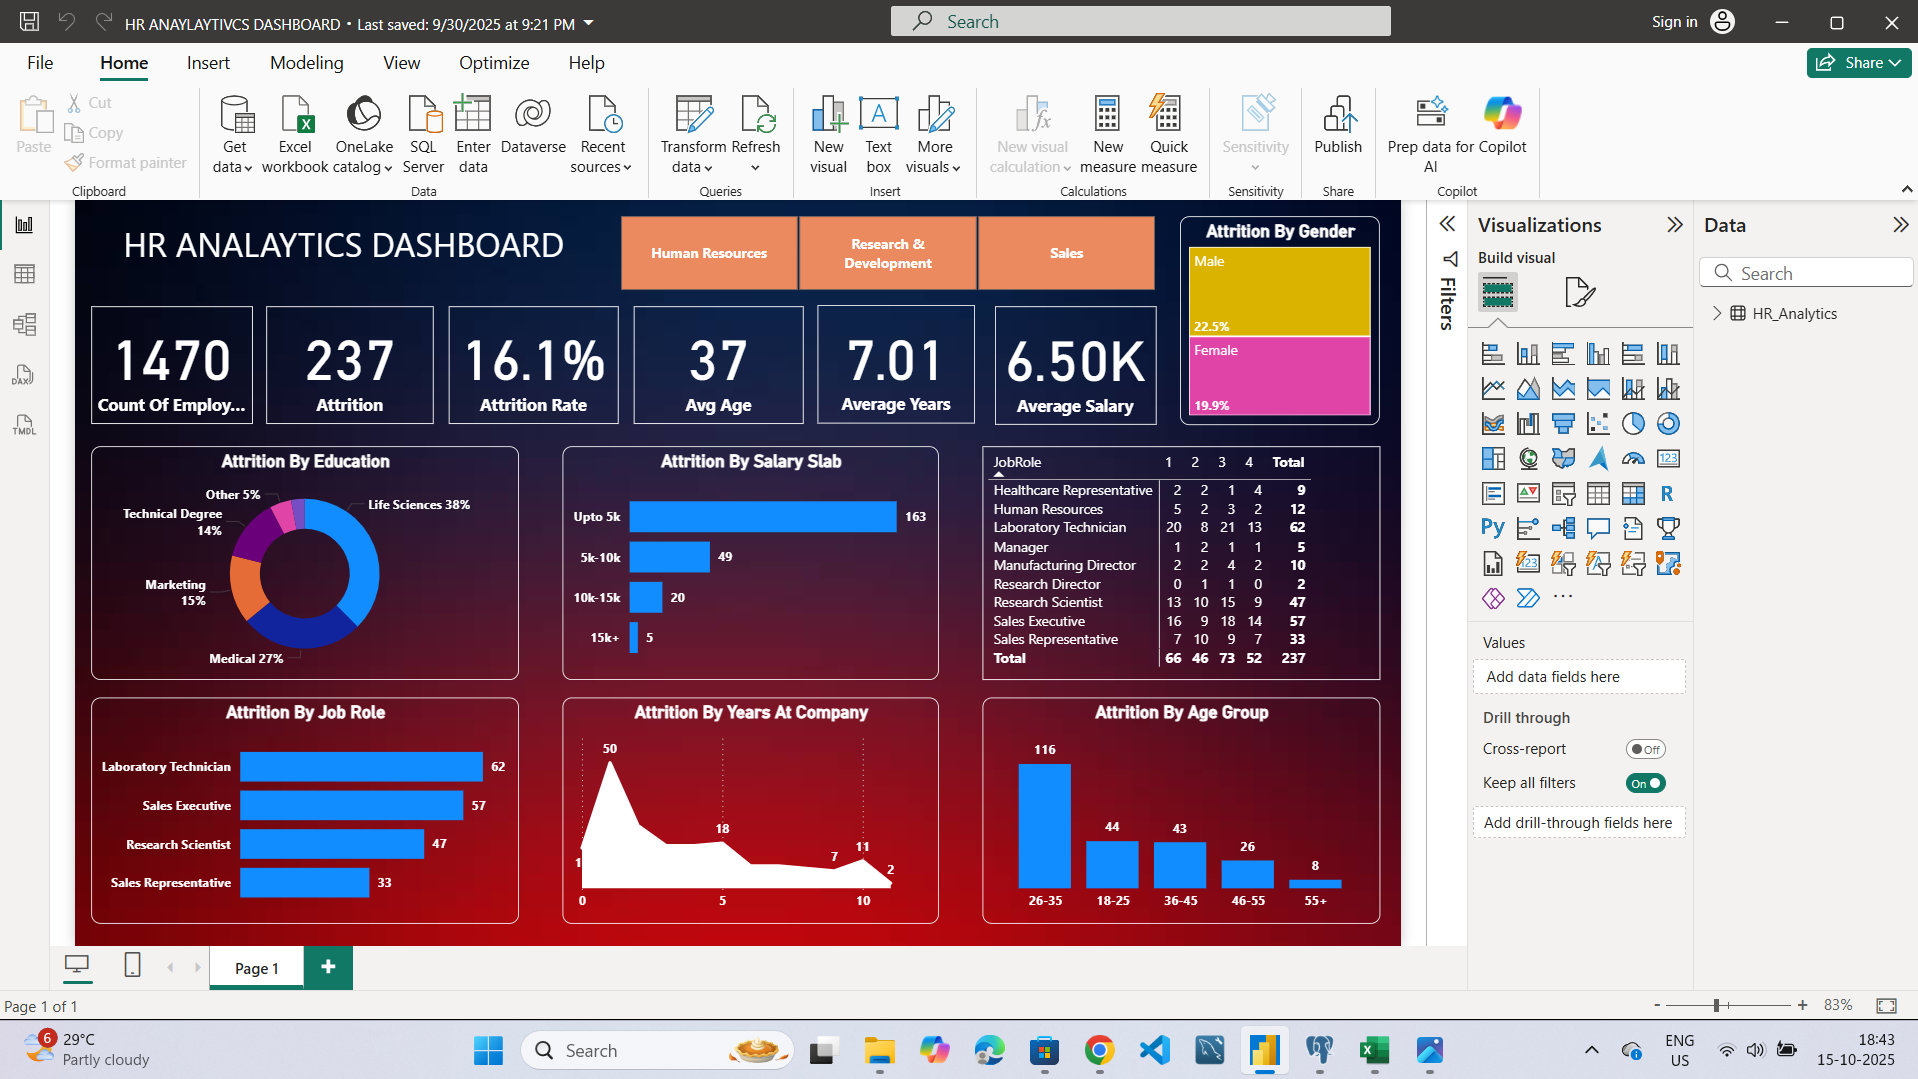

This screenshot's page, from the dashboard's own definition file:
{"tool":"powerbi","page":{"name":"Page 1","canvas":[1280,720],"ordinal":0},"visuals":[{"type":"card","fields":{"Values":["CountNonNull(HR_Analytics.EmpID)"]},"box":[15.7,102.5,155.6,113.4],"z":0},{"type":"card","fields":{"Values":["Sum(HR_Analytics.AttritionCount)"]},"box":[184.6,102.5,161.7,113.4],"z":1000},{"type":"card","fields":{"Values":["HR_Analytics.attritiaonBypercentage"]},"box":[360.7,102.5,164.1,113.4],"z":2000},{"type":"card","fields":{"Values":["HR_Analytics.avg_rate"]},"box":[539.3,102.5,164.1,113.4],"z":3000},{"type":"card","fields":{"Values":["Avg(HR_Analytics.MonthlyIncome)"]},"box":[887.9,102.5,155.6,114.6],"z":4000},{"type":"card","fields":{"Values":["Avg(HR_Analytics.YearsAtCompany)"]},"box":[716.6,101.3,152,114.6],"z":5000},{"type":"donutChart","title":"Attrition By Education ","fields":{"Category":["HR_Analytics.EducationField"],"Y":["Sum(HR_Analytics.AttritionCount)"]},"box":[15.7,237.7,412.6,225.6],"z":6000},{"type":"clusteredColumnChart","title":"Attrition By Age Group","fields":{"Category":["HR_Analytics.AgeGroup"],"Y":["Sum(HR_Analytics.AttritionCount)"]},"box":[875.9,480.2,383.6,218.4],"z":7000},{"type":"pivotTable","fields":{"Rows":["HR_Analytics.JobRole"],"Columns":["HR_Analytics.JobSatisfaction"],"Values":["Sum(HR_Analytics.AttritionCount)"]},"box":[875.9,237.7,383.6,225.6],"z":8000},{"type":"barChart","title":"Attrition By Salary Slab","fields":{"Y":["Sum(HR_Analytics.AttritionCount)"],"Category":["HR_Analytics.SalarySlab"]},"box":[470.5,237.7,363.1,225.6],"z":9000},{"type":"barChart","title":"Attrition By Job Role","fields":{"Y":["Sum(HR_Analytics.AttritionCount)"],"Category":["HR_Analytics.JobRole"]},"box":[15.7,480.2,412.6,218.4],"z":9001},{"type":"areaChart","title":"Attrition By Years At Company","fields":{"Category":["HR_Analytics.YearsAtCompany"],"Y":["Sum(HR_Analytics.AttritionCount)"]},"box":[470.5,480.2,363.1,218.4],"z":9003},{"type":"treemap","title":"Attrition By Gender","fields":{"Group":["HR_Analytics.Gender"],"Values":["HR_Analytics.attritiaonBypercentage"]},"box":[1066.5,15.7,193,201.5],"z":9004},{"type":"textbox","box":[15.7,15.7,487.4,70],"z":9005},{"type":"slicer","fields":{"Values":["HR_Analytics.Department"]},"box":[500.7,8.4,565.8,85.7],"z":9006}]}

Visuals, with their boxes on the page's 1280x720 design canvas (x1, y1, x2, y2). These are canvas units, not pixel positions in the 1918x1079 screenshot, which may show the page scaled, cropped or inside an application window:
card - CountNonNull(HR_Analytics.EmpID): [16,102,171,216]
card - Sum(HR_Analytics.AttritionCount): [185,102,346,216]
card - HR_Analytics.attritiaonBypercentage: [361,102,525,216]
card - HR_Analytics.avg_rate: [539,102,703,216]
card - Avg(HR_Analytics.MonthlyIncome): [888,102,1044,217]
card - Avg(HR_Analytics.YearsAtCompany): [717,101,869,216]
"Attrition By Education " donutChart: [16,238,428,463]
"Attrition By Age Group" clusteredColumnChart: [876,480,1260,699]
pivotTable - HR_Analytics.JobRole x HR_Analytics.JobSatisfaction: [876,238,1260,463]
"Attrition By Salary Slab" barChart: [470,238,834,463]
"Attrition By Job Role" barChart: [16,480,428,699]
"Attrition By Years At Company" areaChart: [470,480,834,699]
"Attrition By Gender" treemap: [1066,16,1260,217]
textbox: [16,16,503,86]
slicer - HR_Analytics.Department: [501,8,1066,94]
